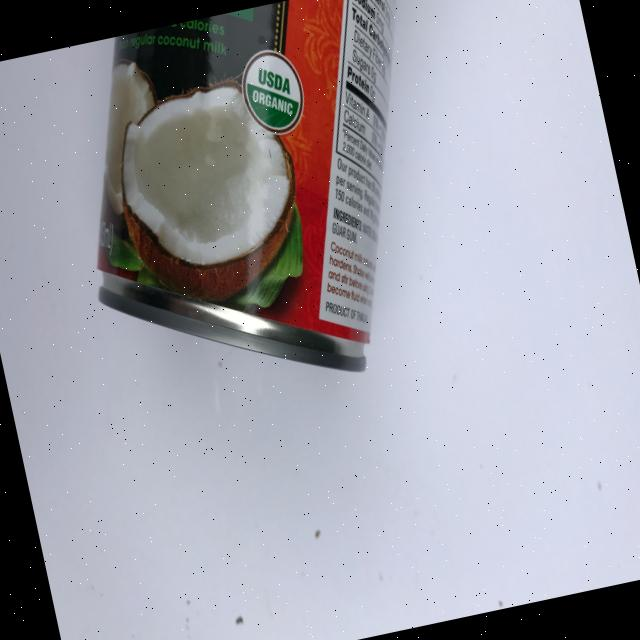metal: (0, 0, 558, 470)
